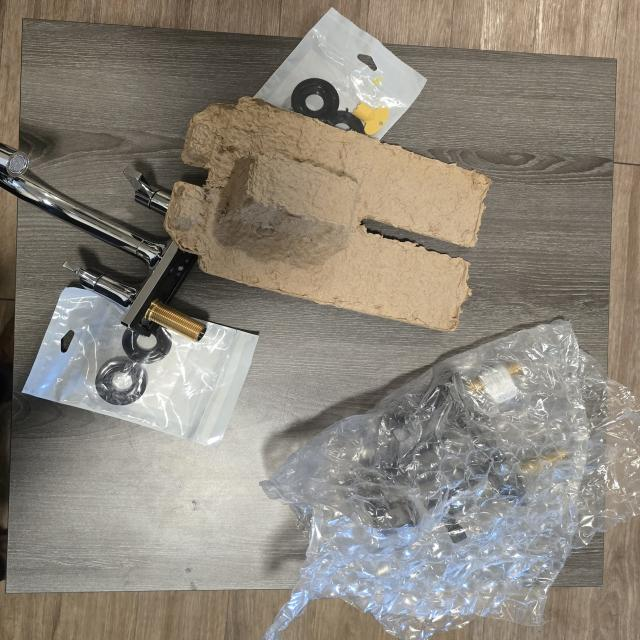10o: (0, 143, 207, 341), (123, 167, 171, 215)
12o: (254, 8, 426, 139)
13o: (22, 287, 258, 446)
9c: (261, 321, 640, 640)
